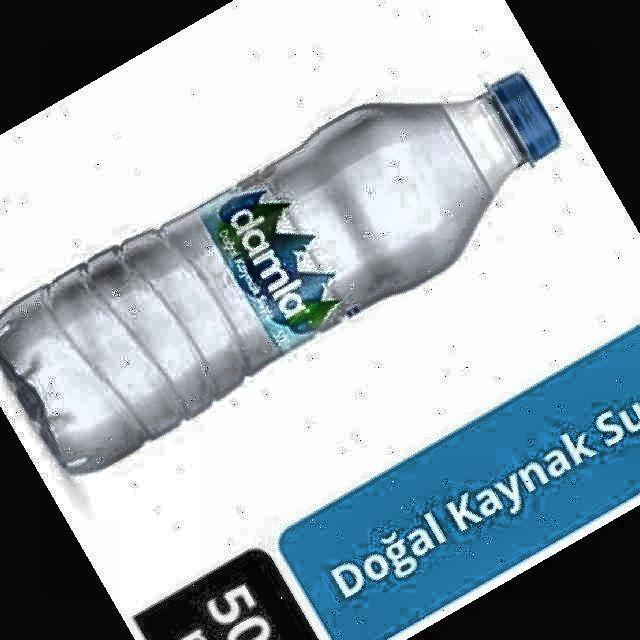plastic: (0, 74, 559, 472)
